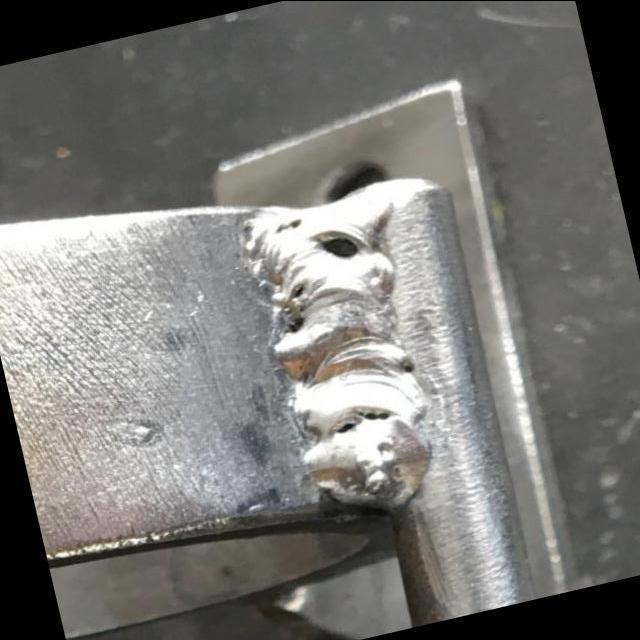defect: (302, 221, 369, 262), (280, 277, 320, 335), (330, 403, 393, 439), (398, 362, 417, 376)
